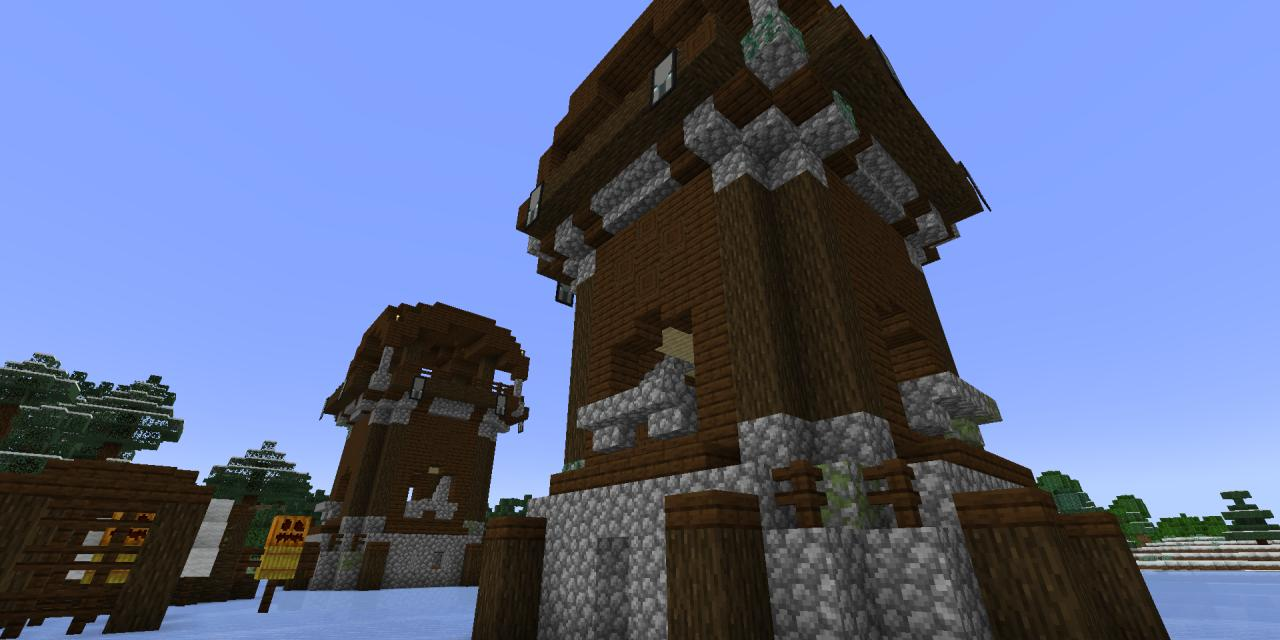pillager outpost: (457, 0, 1178, 640), (297, 286, 537, 600)
